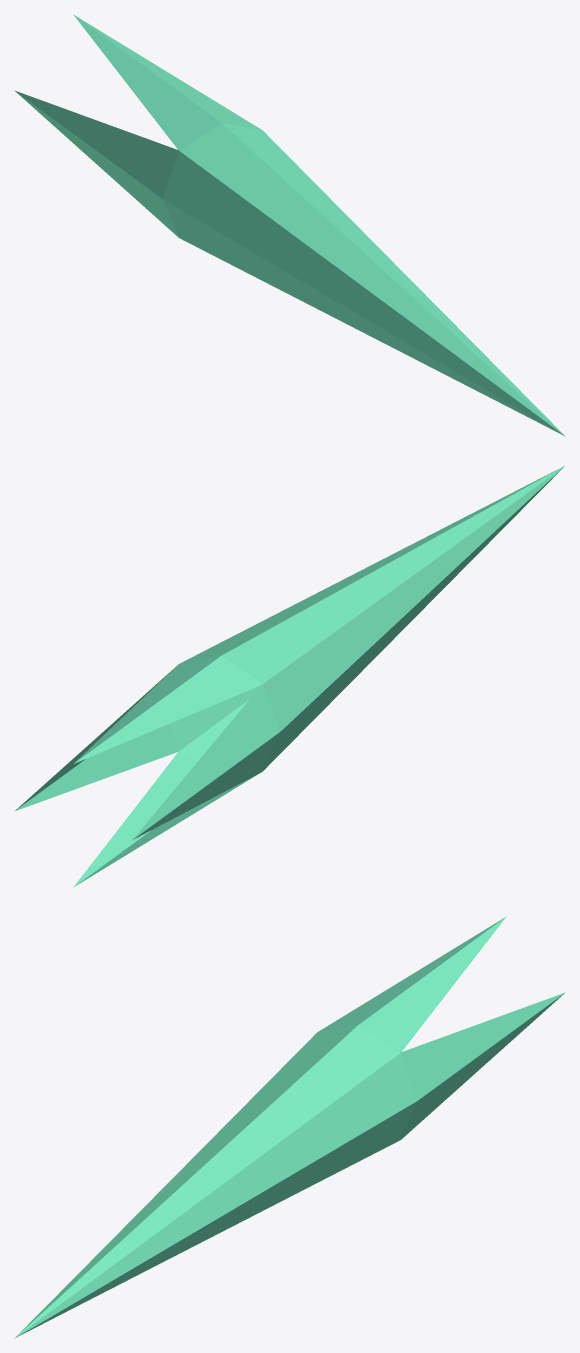
Rendered from EFFMON4.fbx.
3 views of the same model, one above another, from view 1: azimuth 30°, elevation 25°; view 2: azimuth 150°, elevation 25°; view 3: azimuth 330°, elevation 25° (orthographic).
Parts seen in each view (by area): view 1: Cylinder.001; view 2: Cylinder.001; view 3: Cylinder.001.
Part boxes in pixels (x1=…): Cylinder.001: x1=14, y1=14, x2=565, y2=436; Cylinder.001: x1=14, y1=465, x2=565, y2=887; Cylinder.001: x1=14, y1=916, x2=565, y2=1338.
Size of the model in its own units: 641 by 641 by 4641.
